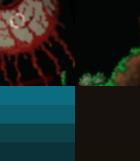eyeC: (0, 0, 75, 86)
legs: (75, 86, 140, 161)
recallP: (0, 86, 75, 161)
